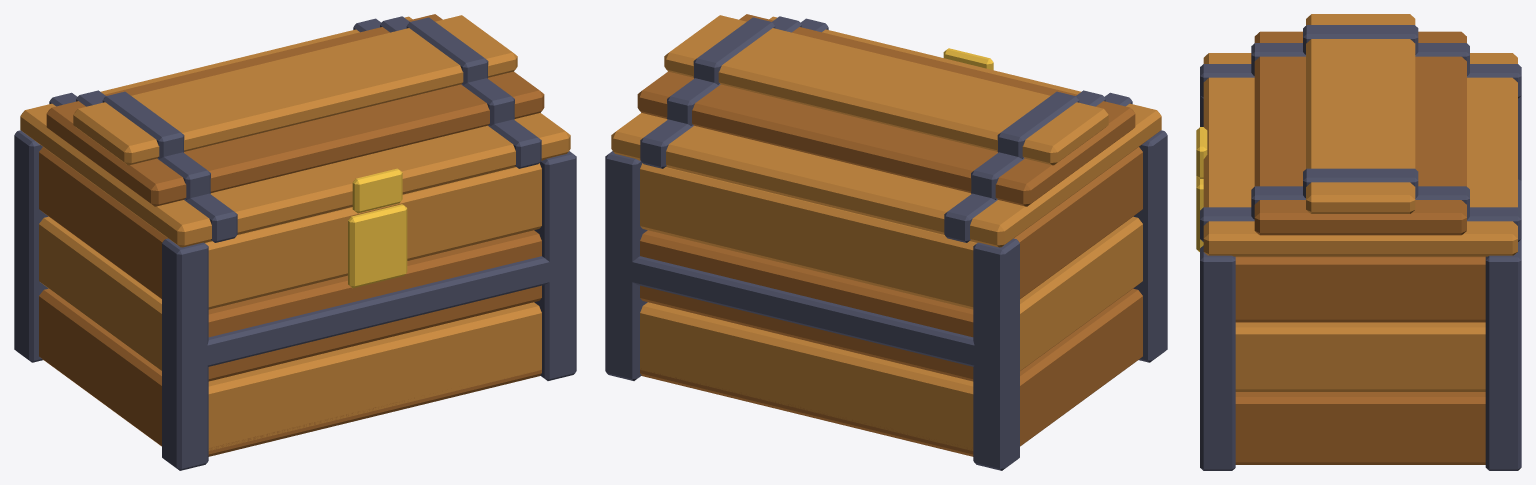
File: myw_lootcrate.glb
3 views of the same model, side by side, from view 1: azimuth 30°, elevation 25°; view 2: azimuth 150°, elevation 25°; view 3: azimuth 270°, elevation 25° (orthographic). The views are drawn at different scales.
Parts seen in each view (by area): view 1: Body, Lid, BodyIron, LidIron, Lock, LidLock; view 2: Body, Lid, BodyIron, LidIron, LidLock; view 3: Lid, Body, BodyIron, LidIron, LidLock, Lock.
Part boxes in pixels (x1,y1,x2,y2): Body: (39,147,541,456); Lid: (20,14,570,247); BodyIron: (14,130,576,470); LidIron: (49,16,541,242); Lock: (348,204,407,288); LidLock: (352,168,402,213); Body: (640,147,1142,456); Lid: (611,14,1161,247); BodyIron: (605,130,1167,470); LidIron: (640,16,1132,242); LidLock: (943,48,993,70); Lid: (1203,14,1517,256); Body: (1235,256,1485,464); BodyIron: (1200,96,1521,470); LidIron: (1200,25,1521,241); LidLock: (1196,127,1207,178); Lock: (1196,176,1203,251).
Size of the model in its own units: 2.5 by 1.71 by 1.82.
